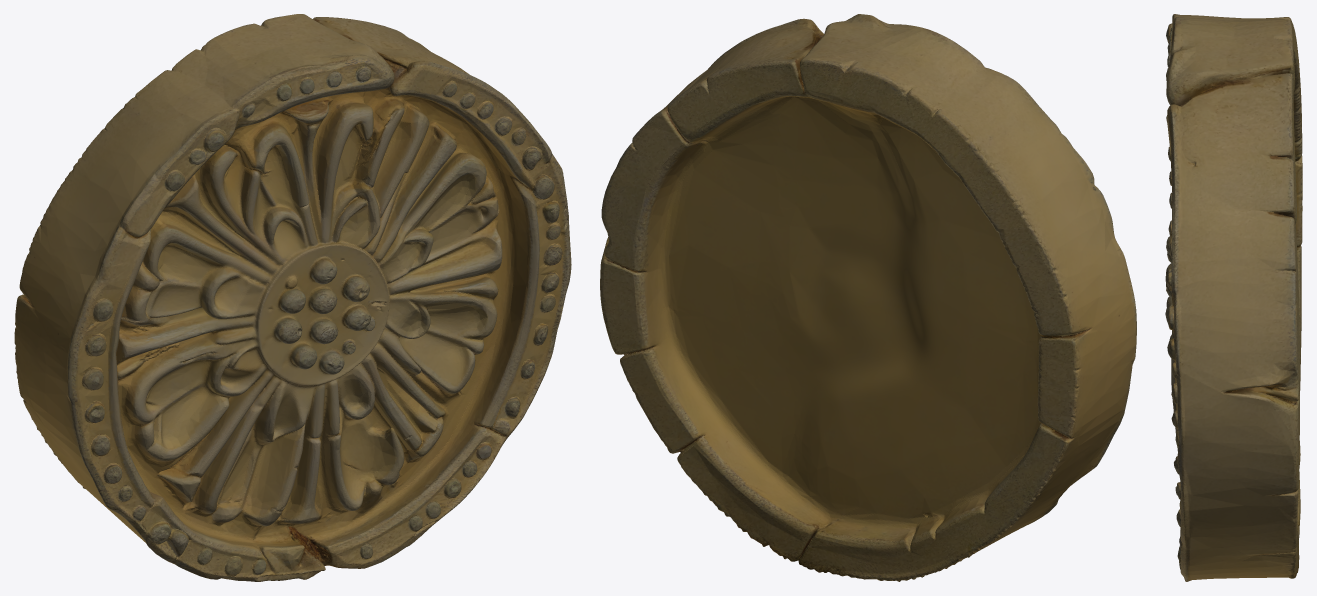
The model's file is baiji.glb.
The picture shows the model from 3 angles, left to right: view 1: azimuth 30°, elevation 25°; view 2: azimuth 150°, elevation 25°; view 3: azimuth 270°, elevation 25°; orthographic projection. The views are drawn at different scales.
Parts seen in each view (by area): view 1: node_0; view 2: node_0; view 3: node_0.
Boxes of the visible parts, bbox=[...] form: node_0: bbox=[14, 14, 571, 581]; node_0: bbox=[600, 14, 1136, 581]; node_0: bbox=[1165, 14, 1302, 581].
Size of the model in its own units: 1.16 by 1.16 by 0.2808.
